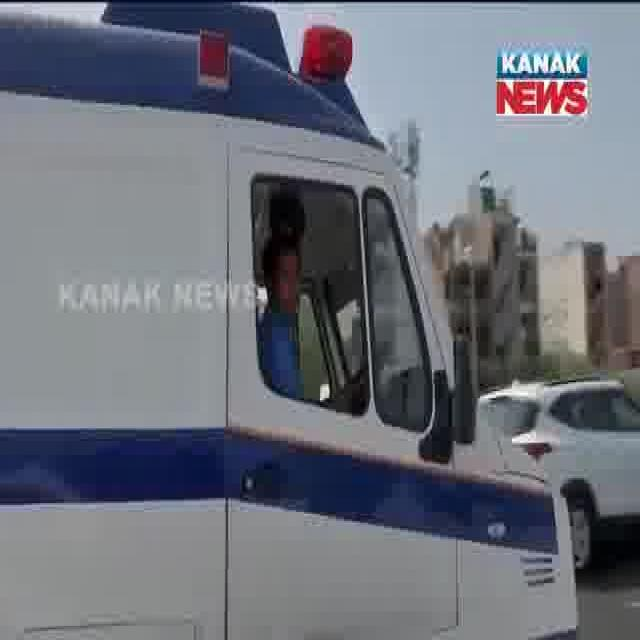ambulance: (1, 5, 640, 639)
